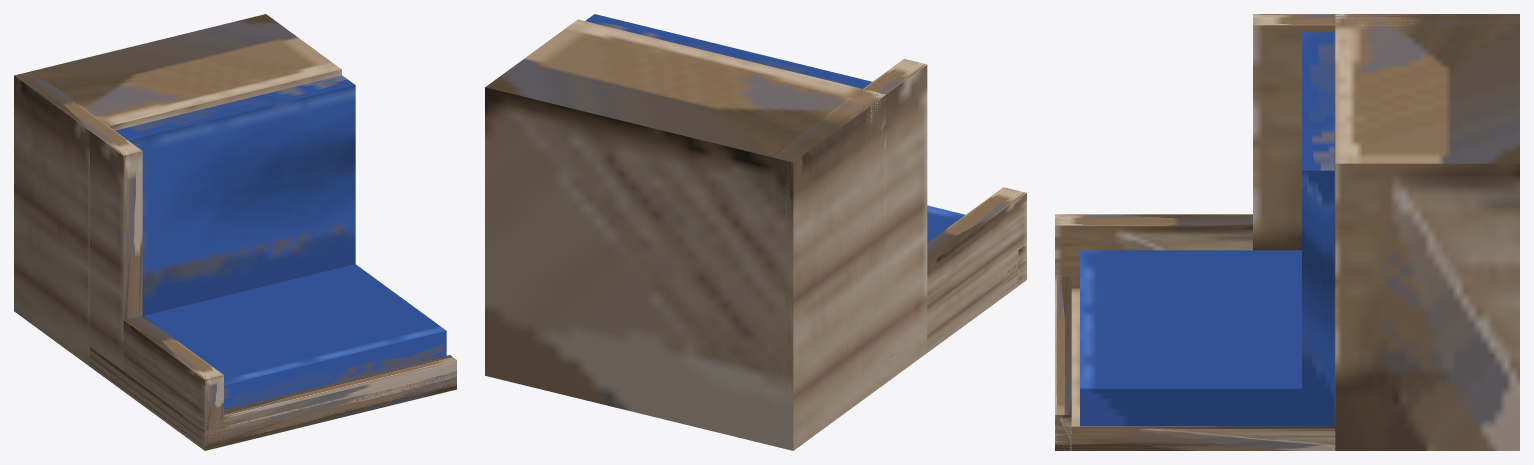
Rendered from pz_blue_maple_0_fidelity_r1.obj.
3 renders of one model, left to right at view 1: azimuth 30°, elevation 25°; view 2: azimuth 150°, elevation 25°; view 3: azimuth 270°, elevation 25°, orthographic. The views are drawn at different scales.
Parts seen in each view (by area): view 1: pz_blue_maple_0_fidelity_r1; view 2: pz_blue_maple_0_fidelity_r1; view 3: pz_blue_maple_0_fidelity_r1.
Part boxes in pixels (x1,y1,x2,y2): pz_blue_maple_0_fidelity_r1: [14, 14, 456, 450]; pz_blue_maple_0_fidelity_r1: [485, 14, 1026, 450]; pz_blue_maple_0_fidelity_r1: [1055, 14, 1519, 450].
Size of the model in its own units: 0.85 by 0.76 by 1.12.
Materials: 1 (1 with a texture image).
